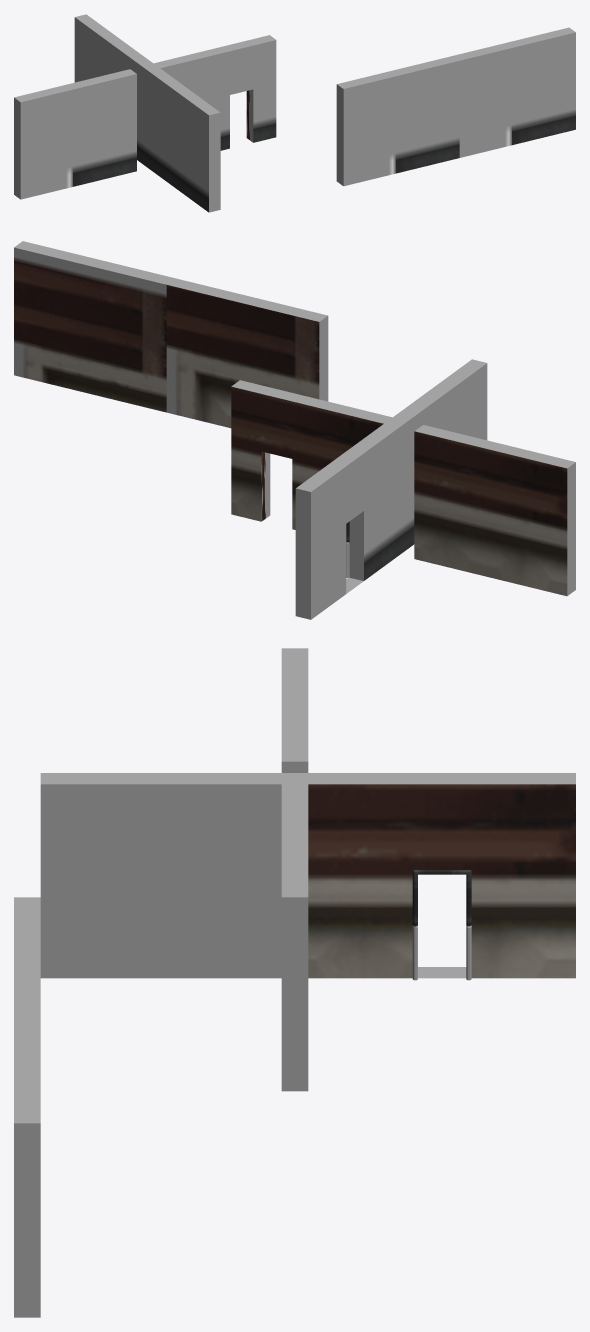
File: bz_hub_wall_collection.fbx
3 renders of one model, top to bottom at view 1: azimuth 30°, elevation 25°; view 2: azimuth 150°, elevation 25°; view 3: azimuth 270°, elevation 25°, orthographic. The views are drawn at different scales.
Visible parts, largest first — view 1: bz_hub_wall_02, bz_hub_wall_01, bz_hub_wall_03, bz_hub_wall_04, bz_hub_wall_05; view 2: bz_hub_wall_01, bz_hub_wall_04, bz_hub_wall_03, bz_hub_wall_02, bz_hub_wall_05; view 3: bz_hub_wall_04, bz_hub_wall_05, bz_hub_wall_03, bz_hub_wall_01, bz_hub_wall_02, bz_hub_doorframe_01.
Part boxes in pixels (x1=…): bz_hub_wall_02: x1=336, y1=56, x2=459, y2=186; bz_hub_wall_01: x1=14, y1=69, x2=136, y2=199; bz_hub_wall_03: x1=453, y1=27, x2=575, y2=157; bz_hub_wall_04: x1=74, y1=14, x2=220, y2=212; bz_hub_wall_05: x1=154, y1=35, x2=276, y2=150; bz_hub_wall_01: x1=414, y1=425, x2=575, y2=596; bz_hub_wall_04: x1=295, y1=359, x2=487, y2=619; bz_hub_wall_03: x1=14, y1=241, x2=174, y2=412; bz_hub_wall_02: x1=166, y1=278, x2=328, y2=428; bz_hub_wall_05: x1=231, y1=380, x2=392, y2=529; bz_hub_wall_04: x1=40, y1=773, x2=575, y2=978; bz_hub_wall_05: x1=281, y1=784, x2=308, y2=1091; bz_hub_wall_03: x1=14, y1=1010, x2=40, y2=1317; bz_hub_wall_01: x1=281, y1=648, x2=308, y2=772; bz_hub_wall_02: x1=14, y1=897, x2=40, y2=1010; bz_hub_doorframe_01: x1=412, y1=870, x2=471, y2=980.
Size of the model in its own units: 21 by 4.01 by 10.5.
